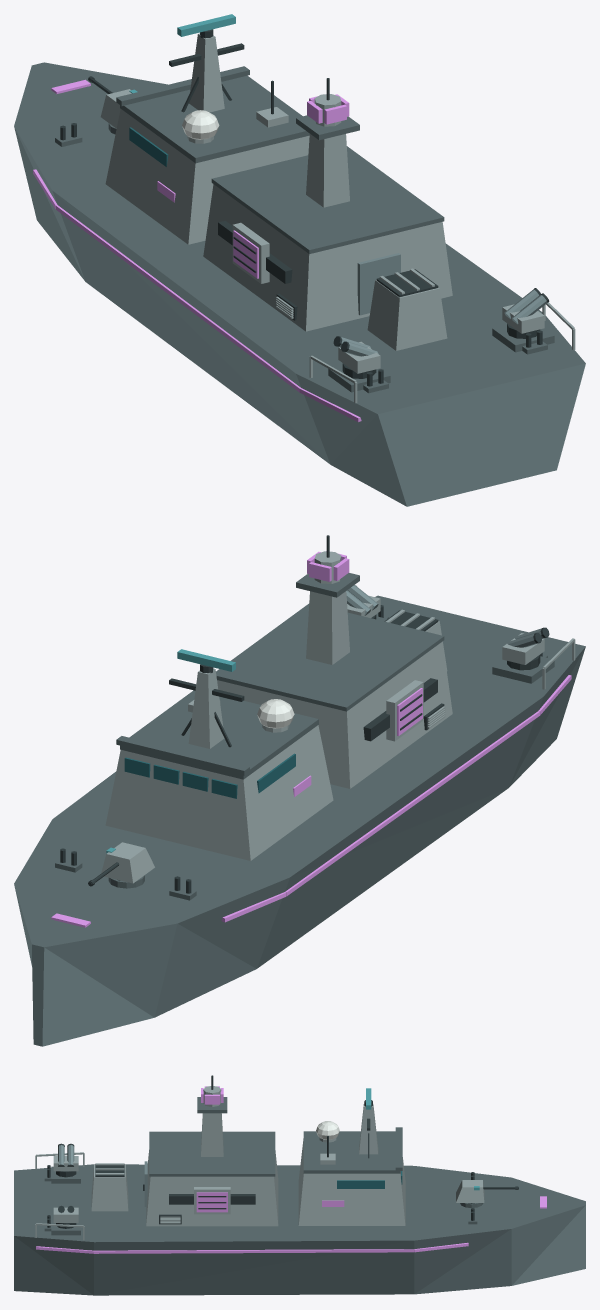
Rendered from ESC_EW_T1.fbx.
3 renders of one model, top to bottom at view 1: azimuth 30°, elevation 25°; view 2: azimuth 150°, elevation 25°; view 3: azimuth 270°, elevation 25°, orthographic. The views are drawn at different scales.
Visible parts, largest first — view 1: ContinuousHull.009, ElectronicWarfareEquipmentRoom.001, ElectronicsRoomRoof, Deckhouse.009, Roof.009, FunnelEnclosure.009, ESMMast.001, NavMast.005, RoleHullStripe-1_1, EWServiceHatch, BridgeBrow, JammerBackplate_P0 (+9 smaller); view 2: ContinuousHull.009, Deckhouse.009, ElectronicsRoomRoof, ElectronicWarfareEquipmentRoom.001, Roof.009, ESMMast.001, NavMast.005, RoleHullStripe-1_1, PrimaryGunCupola.009, BridgeBrow, SecureDatalinkRadome, JammerBackplate_P0 (+5 smaller); view 3: ContinuousHull.009, Deckhouse.009, ElectronicsRoomRoof, ElectronicWarfareEquipmentRoom.001, Roof.009, FunnelEnclosure.009, RoleHullStripe1_1, ESMMast.001, NavMast.005, PrimaryGunCupola.009, JammerFace_S0, JammerWallBracket_S (+8 smaller).
Boxes of the visible parts, left/top/right/bottom form: ContinuousHull.009: left=14, top=62, right=585, bottom=506; ElectronicWarfareEquipmentRoom.001: left=203, top=184, right=452, bottom=331; ElectronicsRoomRoof: left=211, top=146, right=444, bottom=253; Deckhouse.009: left=105, top=109, right=309, bottom=244; Roof.009: left=120, top=75, right=309, bottom=163; FunnelEnclosure.009: left=367, top=280, right=447, bottom=350; ESMMast.001: left=306, top=134, right=349, bottom=207; NavMast.005: left=189, top=33, right=224, bottom=112; RoleHullStripe-1_1: left=55, top=205, right=300, bottom=392; EWServiceHatch: left=357, top=253, right=400, bottom=315; BridgeBrow: left=116, top=66, right=249, bottom=105; JammerBackplate_P0: left=232, top=222, right=269, bottom=283; ContinuousHull.009: left=14, top=595, right=585, bottom=1046; Deckhouse.009: left=105, top=725, right=333, bottom=860; ElectronicsRoomRoof: left=216, top=603, right=444, bottom=711; ElectronicWarfareEquipmentRoom.001: left=217, top=641, right=452, bottom=788; Roof.009: left=120, top=690, right=318, bottom=779; ESMMast.001: left=306, top=591, right=349, bottom=664; NavMast.005: left=188, top=668, right=224, bottom=748; RoleHullStripe-1_1: left=285, top=711, right=539, bottom=896; PrimaryGunCupola.009: left=101, top=842, right=154, bottom=883; BridgeBrow: left=116, top=736, right=249, bottom=775; SecureDatalinkRadome: left=257, top=699, right=294, bottom=728; JammerBackplate_P0: left=386, top=680, right=423, bottom=741; ContinuousHull.009: left=14, top=1164, right=585, bottom=1295; Deckhouse.009: left=298, top=1138, right=405, bottom=1225; ElectronicsRoomRoof: left=149, top=1131, right=275, bottom=1176; ElectronicWarfareEquipmentRoom.001: left=146, top=1150, right=278, bottom=1226; Roof.009: left=303, top=1131, right=400, bottom=1173; FunnelEnclosure.009: left=91, top=1164, right=128, bottom=1211; RoleHullStripe1_1: left=94, top=1249, right=414, bottom=1253; ESMMast.001: left=201, top=1113, right=223, bottom=1156; NavMast.005: left=359, top=1104, right=378, bottom=1154; PrimaryGunCupola.009: left=456, top=1180, right=484, bottom=1202; JammerFace_S0: left=196, top=1192, right=227, bottom=1212; JammerWallBracket_S: left=169, top=1194, right=255, bottom=1204.
Size of the model in its own units: 290 by 333 by 900.
